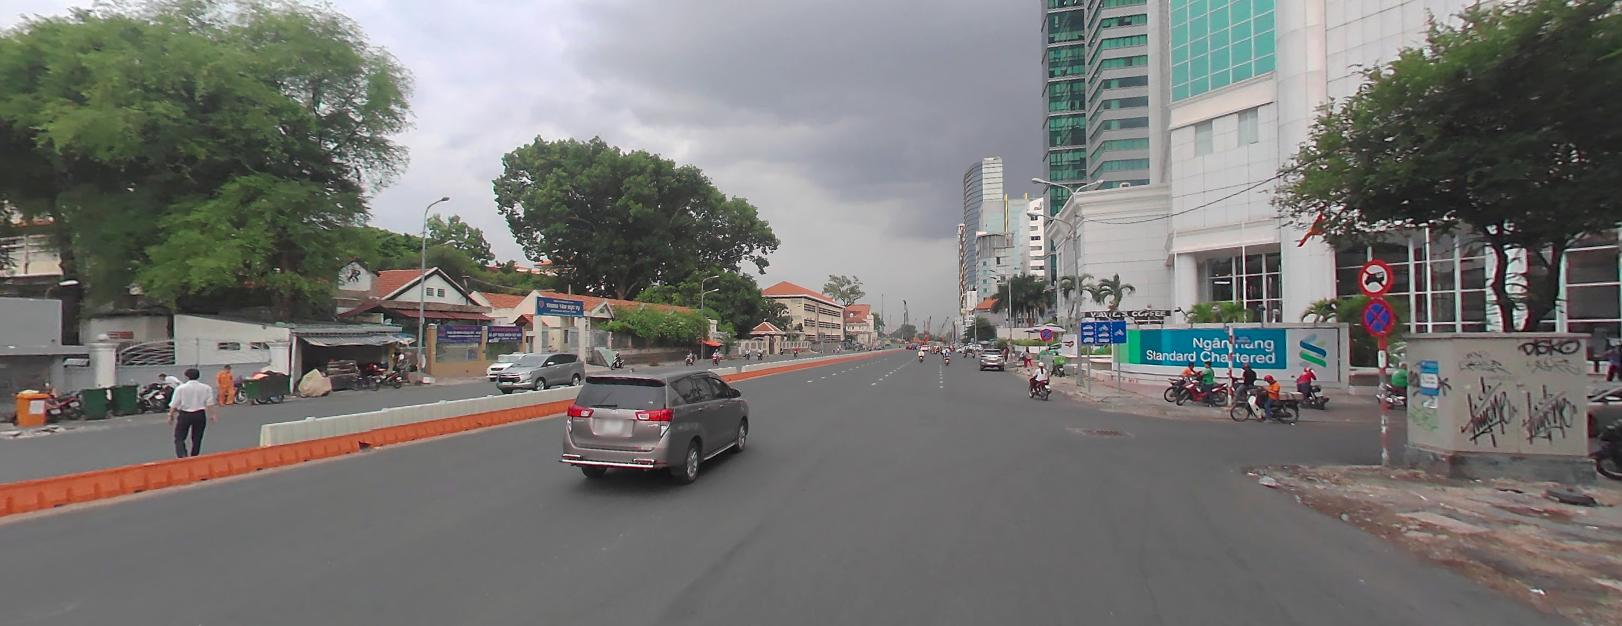Cam con lai: (1358, 258, 1392, 294)
Cam dung va do: (1360, 297, 1395, 335), (1039, 326, 1051, 340)
